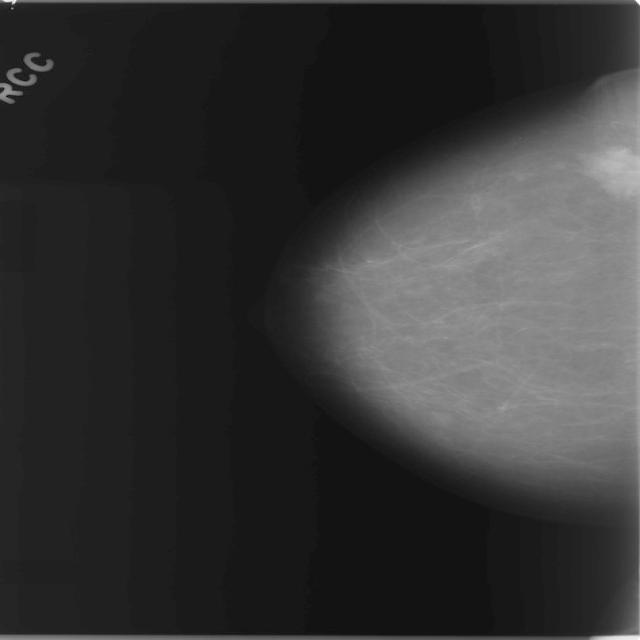tumour: (572, 145, 639, 197)
